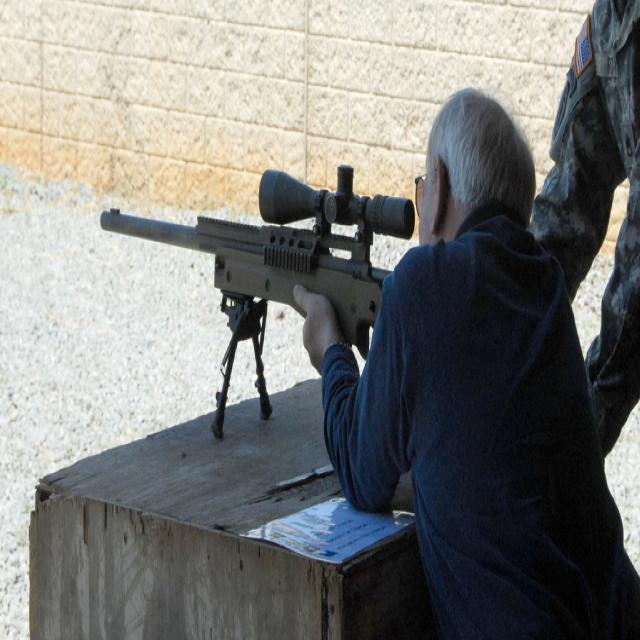weapon: (102, 167, 416, 435)
